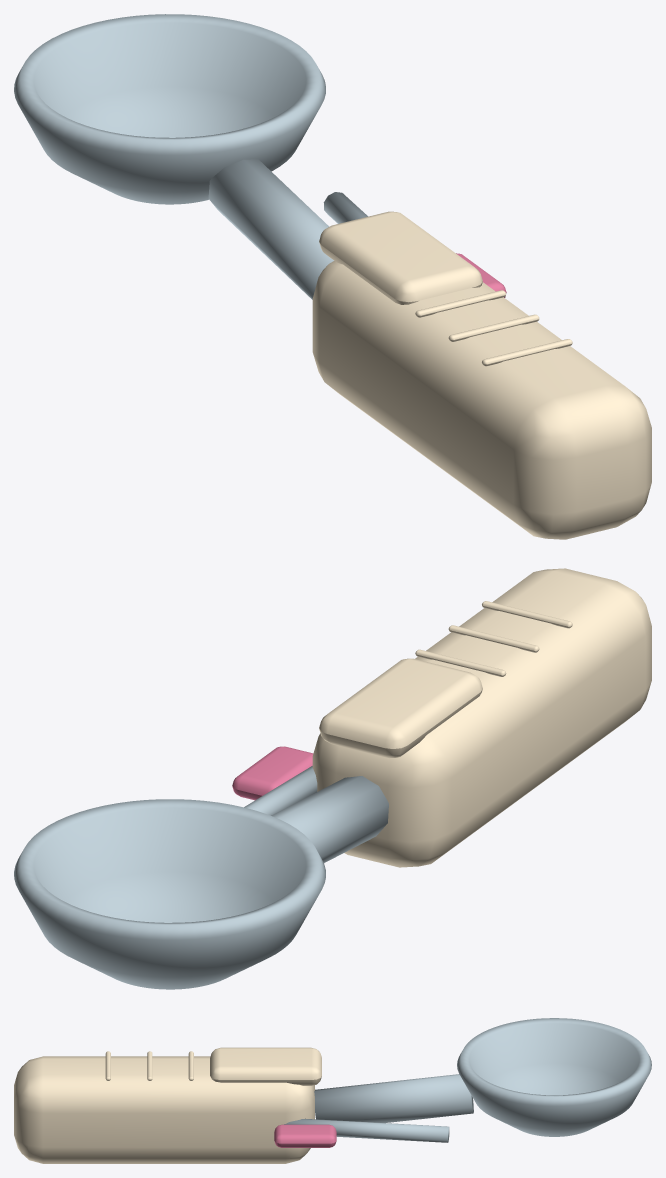
File: Basic_scooper.fbx
3 views of the same model, one above another, from view 1: azimuth 30°, elevation 25°; view 2: azimuth 150°, elevation 25°; view 3: azimuth 270°, elevation 25° (orthographic). The views are drawn at different scales.
Visible parts, largest first — view 1: Toon_Basic_scooper Rounded mint grip.001, Toon_Basic_scooper Open scoop head.001, Toon_Basic_scooper Soft thumb pad.001, Toon_Basic_scooper Steel neck.001, Toon_Basic_scooper Thumb lever.001; view 2: Toon_Basic_scooper Rounded mint grip.001, Toon_Basic_scooper Open scoop head.001, Toon_Basic_scooper Soft thumb pad.001, Toon_Basic_scooper Steel neck.001, Toon_Basic_scooper Thumb lever end.001, Toon_Basic_scooper Thumb lever.001, Toon_Basic_scooper Grip groove.004, Toon_Basic_scooper Grip groove.005, Toon_Basic_scooper Grip groove.003; view 3: Toon_Basic_scooper Rounded mint grip.001, Toon_Basic_scooper Open scoop head.001, Toon_Basic_scooper Steel neck.001, Toon_Basic_scooper Soft thumb pad.001, Toon_Basic_scooper Thumb lever.001, Toon_Basic_scooper Thumb lever end.001.
Boxes of the visible parts, box(x1,y1,x2,y2) form: Toon_Basic_scooper Rounded mint grip.001: box(312, 261, 651, 539); Toon_Basic_scooper Open scoop head.001: box(14, 14, 325, 204); Toon_Basic_scooper Soft thumb pad.001: box(319, 211, 482, 304); Toon_Basic_scooper Steel neck.001: box(208, 159, 333, 299); Toon_Basic_scooper Thumb lever.001: box(323, 192, 367, 223); Toon_Basic_scooper Rounded mint grip.001: box(312, 568, 651, 867); Toon_Basic_scooper Open scoop head.001: box(14, 799, 325, 989); Toon_Basic_scooper Soft thumb pad.001: box(319, 658, 482, 758); Toon_Basic_scooper Steel neck.001: box(271, 776, 388, 862); Toon_Basic_scooper Thumb lever end.001: box(232, 746, 313, 800); Toon_Basic_scooper Thumb lever.001: box(244, 766, 317, 815); Toon_Basic_scooper Grip groove.004: box(448, 625, 539, 652); Toon_Basic_scooper Grip groove.005: box(415, 649, 506, 676); Toon_Basic_scooper Grip groove.003: box(482, 601, 572, 628); Toon_Basic_scooper Rounded mint grip.001: box(14, 1056, 314, 1163); Toon_Basic_scooper Open scoop head.001: box(457, 1018, 651, 1136); Toon_Basic_scooper Steel neck.001: box(314, 1074, 473, 1122); Toon_Basic_scooper Soft thumb pad.001: box(210, 1047, 321, 1085); Toon_Basic_scooper Thumb lever.001: box(284, 1118, 449, 1142); Toon_Basic_scooper Thumb lever end.001: box(274, 1124, 336, 1147).
Size of the model in its own units: 9.4 by 5.1 by 30.75.
